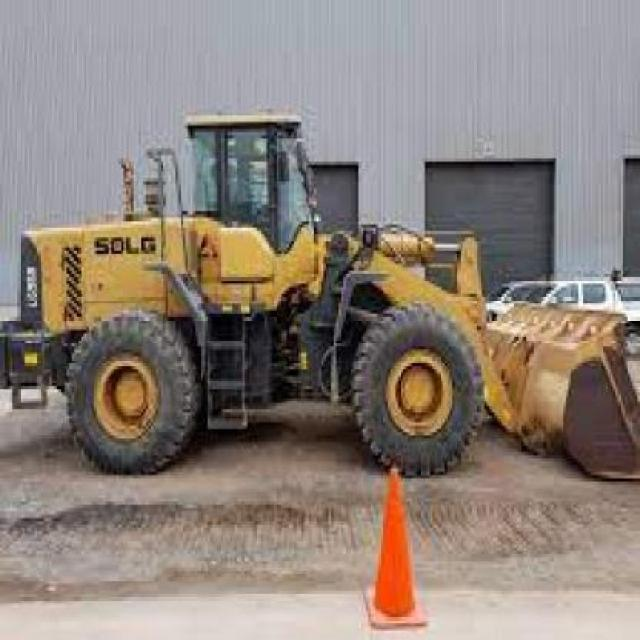buldozerpayloadergrader: (1, 112, 640, 486)
